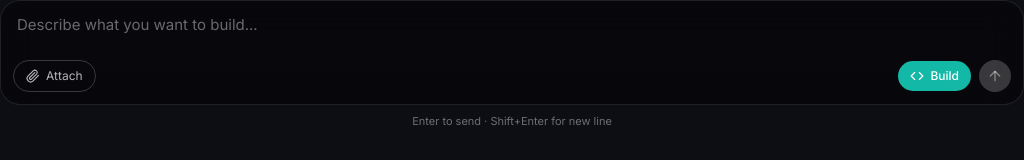
Test case: ChatInput › Chat Mode Toggle › changes placeholder based on mode
Expected: the text box with placeholder "Describe what you want to build..." is shown, [17, 13, 1007, 41]
Note: Toggle to chat mode
Click the button "Build".
click(935, 76)  # box [898, 61, 971, 91]
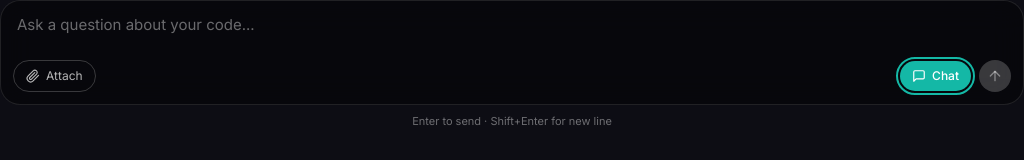
Expected: the text box with placeholder "Ask a question about your code..." is shown, [17, 13, 1007, 41]
